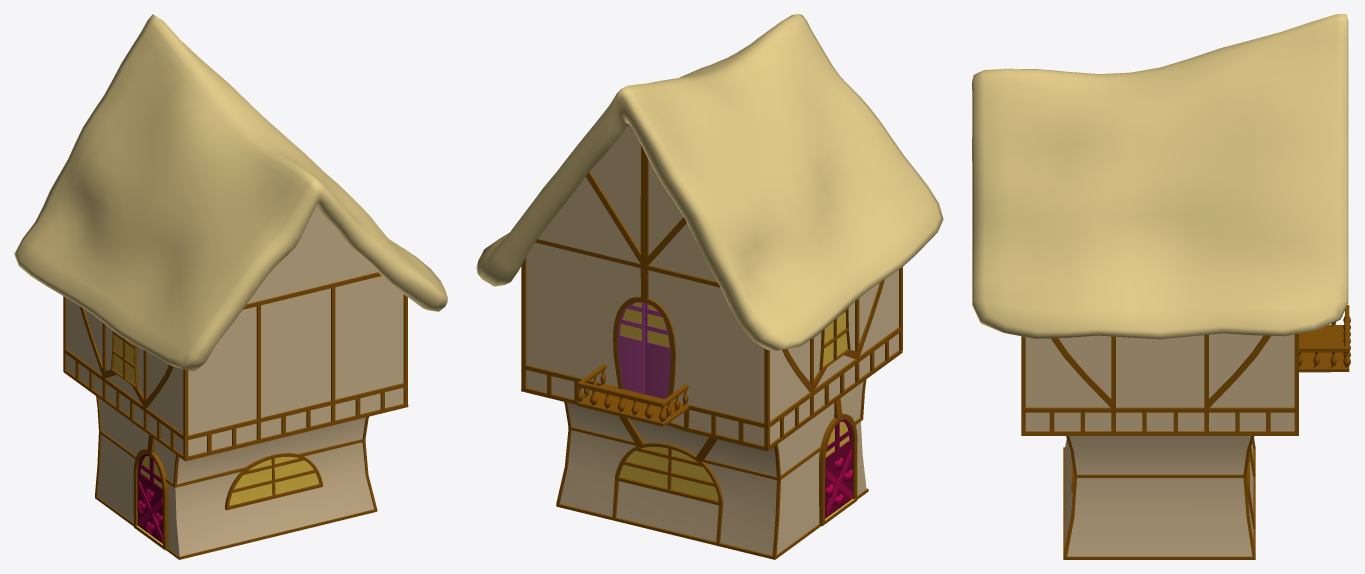
The model's file is Pony_House_02.fbx.
The picture shows the model from 3 angles, left to right: view 1: azimuth 30°, elevation 25°; view 2: azimuth 150°, elevation 25°; view 3: azimuth 270°, elevation 25°; orthographic projection. The views are drawn at different scales.
Visible parts, largest first — view 1: House_2, House_2_Roof; view 2: House_2, House_2_Roof; view 3: House_2_Roof, House_2.
Boxes of the visible parts, x1,y1,x2,y2 form: House_2: (63,207,408,559); House_2_Roof: (14,14,447,371); House_2: (521,124,902,559); House_2_Roof: (476,14,943,350); House_2_Roof: (972,14,1348,339); House_2: (1021,305,1350,559).
Bounding box in the file's own units: 23.28 × 31.54 × 22.08.
